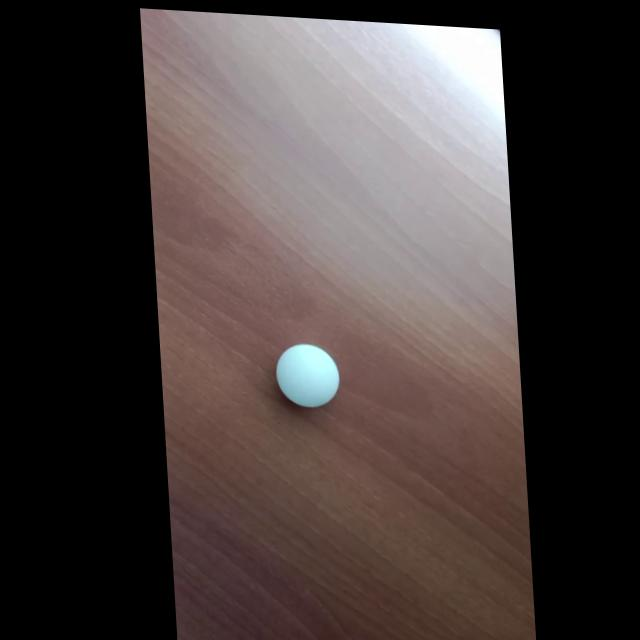white ball: (273, 341, 341, 409)
